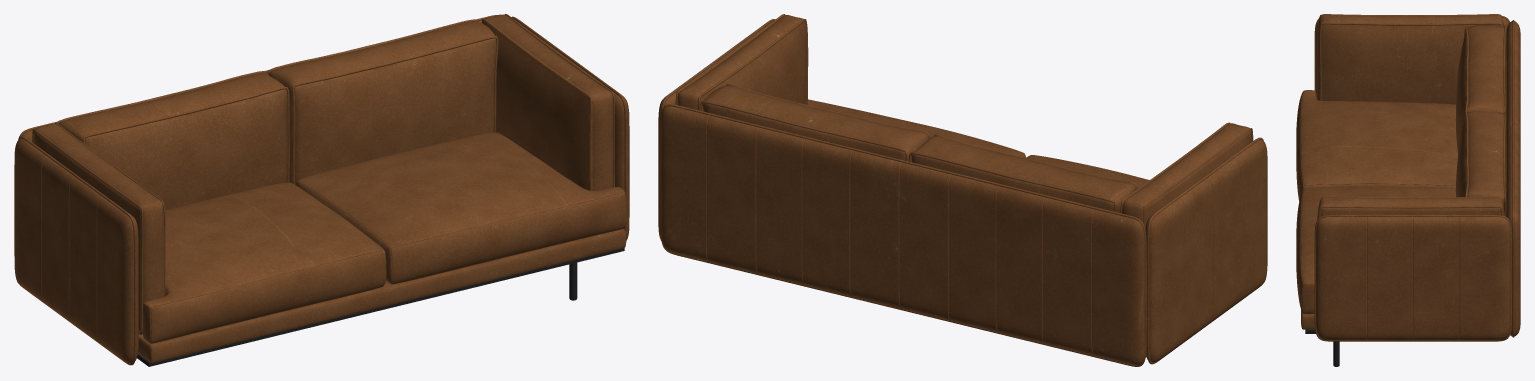
Rendered from sofa-4.gltf.
The picture shows the model from 3 angles, left to right: view 1: azimuth 30°, elevation 25°; view 2: azimuth 150°, elevation 25°; view 3: azimuth 270°, elevation 25°; orthographic projection. The views are drawn at different scales.
Visible parts, largest first — view 1: Seat part, Leg part; view 2: Seat part; view 3: Seat part, Leg part.
Part boxes in pixels (bbox=[...]): Seat part: bbox=[14, 14, 629, 365]; Leg part: bbox=[137, 248, 624, 366]; Seat part: bbox=[658, 14, 1267, 366]; Seat part: bbox=[1296, 14, 1520, 341]; Leg part: bbox=[1305, 329, 1339, 366].
Size of the model in its own units: 2 by 0.7934 by 0.9215.
Materials: 2 (2 with a texture image).
